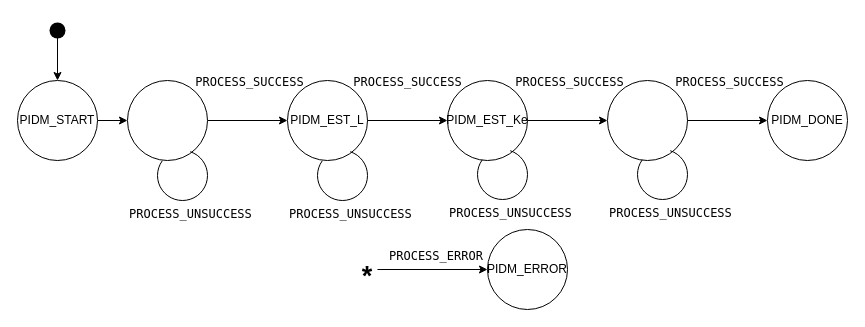
Some shapes in this 865 by 327 pixel diagram are drawn without their labels. Here are the shapes that lost their labels. From the top down, the centre of each, then its label:
the point at 167,120: PIDM_EST_R
the point at 647,120: PIDM_EST_J
